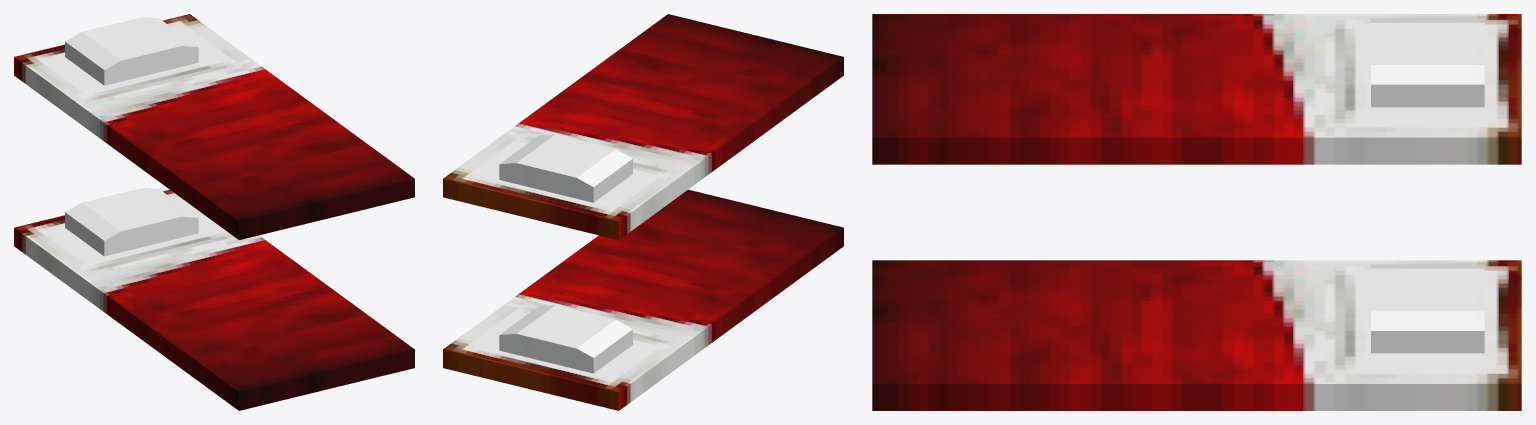
Rendered from beds.fbx.
3 renders of one model, left to right at view 1: azimuth 30°, elevation 25°; view 2: azimuth 150°, elevation 25°; view 3: azimuth 270°, elevation 25°, orthographic. The views are drawn at different scales.
Visible parts, largest first — view 1: beds; view 2: beds; view 3: beds.
Boxes of the visible parts, x1,y1,x2,y2 form: beds: [14, 14, 414, 410]; beds: [443, 14, 843, 410]; beds: [872, 14, 1521, 410].
Bounding box in the file's own units: 516 × 590 × 1143.
1 material, 1 textured.
